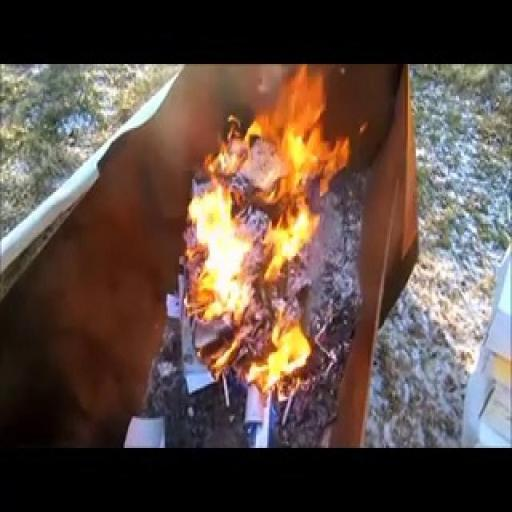smoke: (175, 72, 374, 404)
